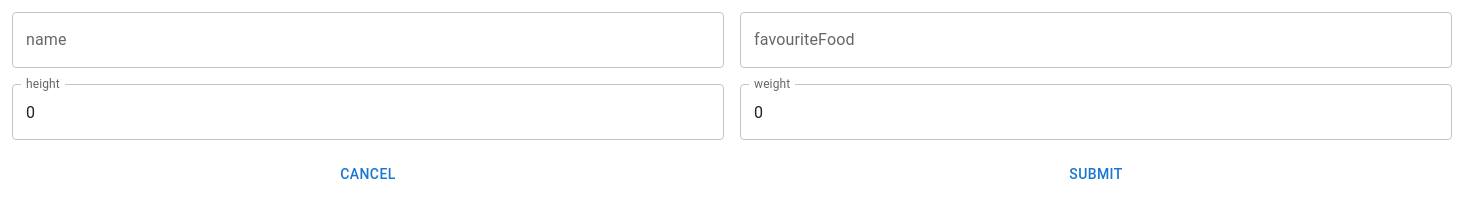
should show validation on blur
Step 1. Click the button "Submit" → (1096, 174), box [740,156,1452,192]
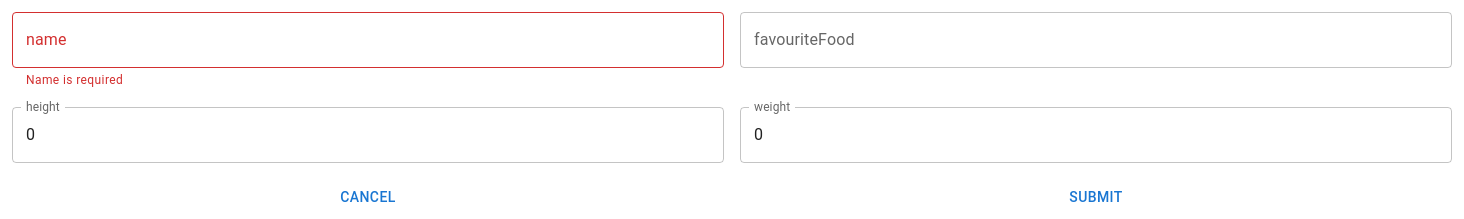
Now the text "Name is required" is shown, box [26,73,123,87]
